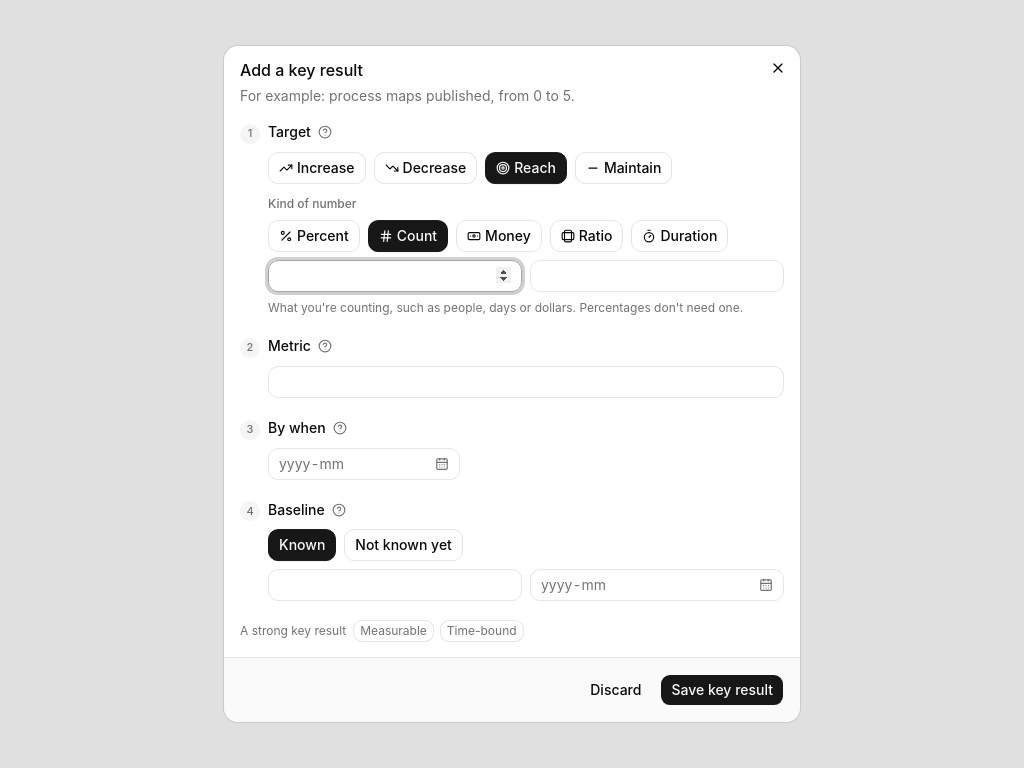
Test: KeyResultDialog › changes every example to match the kind of number chosen
Click the radio button labelled "Percent": (314, 236) 268,220 -> 360,252
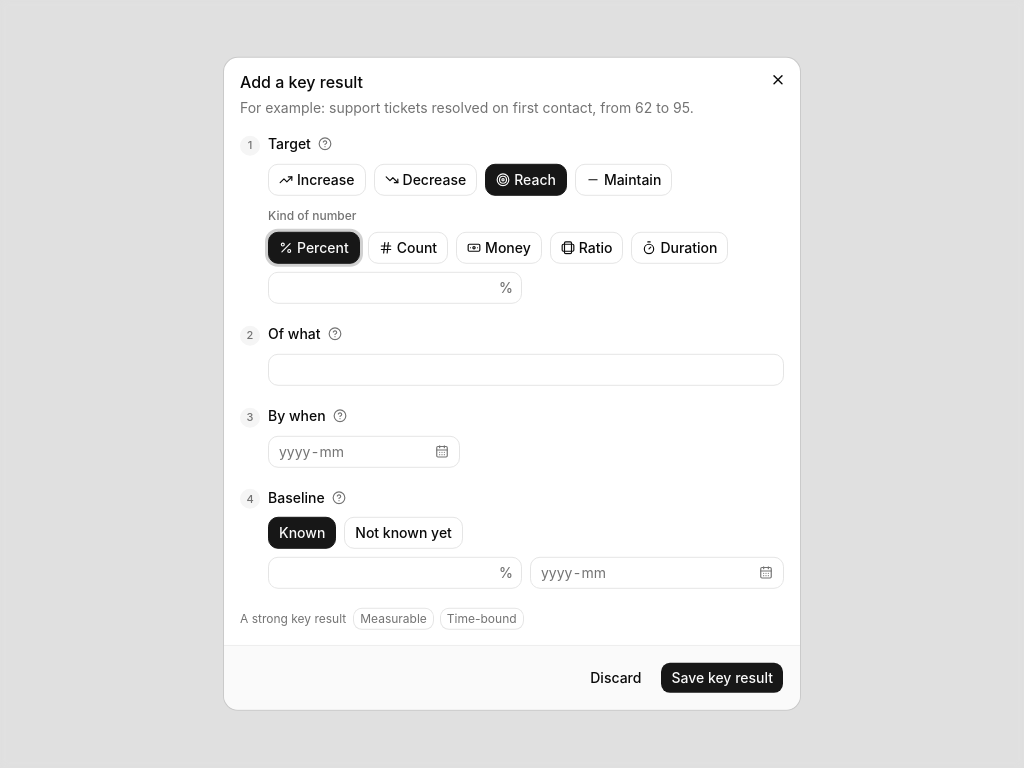
Now the field labelled "Unit" is gone
